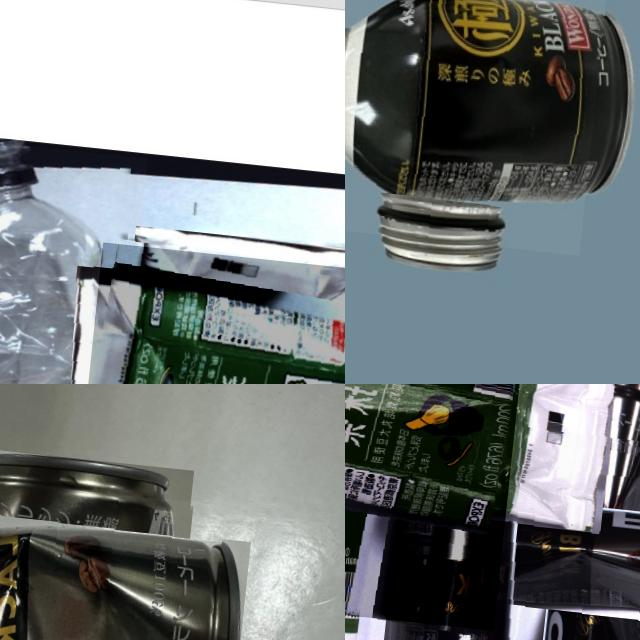Aluminium Foil: (345, 384, 534, 629), (69, 241, 345, 384)
Can: (345, 0, 609, 254), (377, 384, 539, 640), (0, 469, 222, 640), (467, 423, 640, 640)
Transparent Plastic Bottle: (0, 133, 146, 384)
